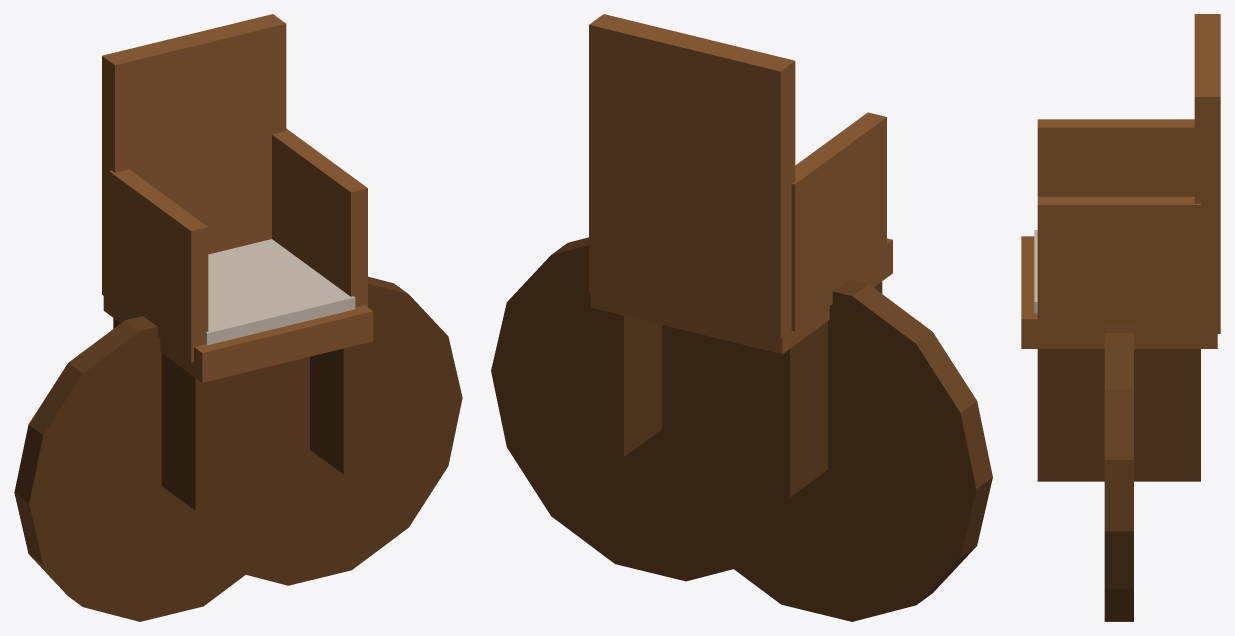
The model's file is Chair.obj.
The picture shows the model from 3 angles, left to right: view 1: azimuth 30°, elevation 25°; view 2: azimuth 150°, elevation 25°; view 3: azimuth 270°, elevation 25°; orthographic projection. The views are drawn at different scales.
Parts seen in each view (by area): view 1: Chair; view 2: Chair; view 3: Chair.
Boxes of the visible parts, left/top/right/bottom form: Chair: left=14, top=14, right=462, bottom=621; Chair: left=491, top=14, right=992, bottom=621; Chair: left=1021, top=14, right=1220, bottom=621.
Bounding box in the file's own units: 1.52 × 1.74 × 0.61.
